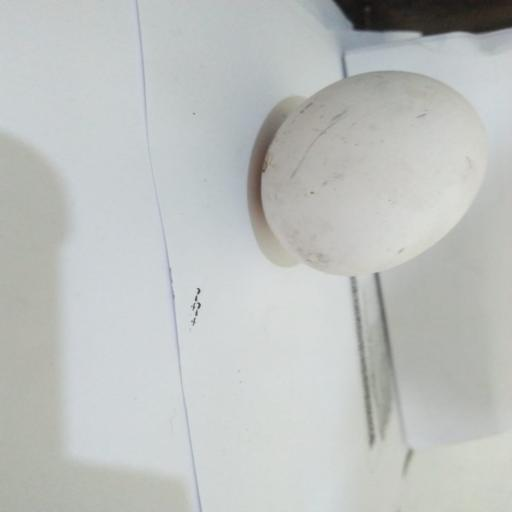telur: (242, 63, 503, 294)
